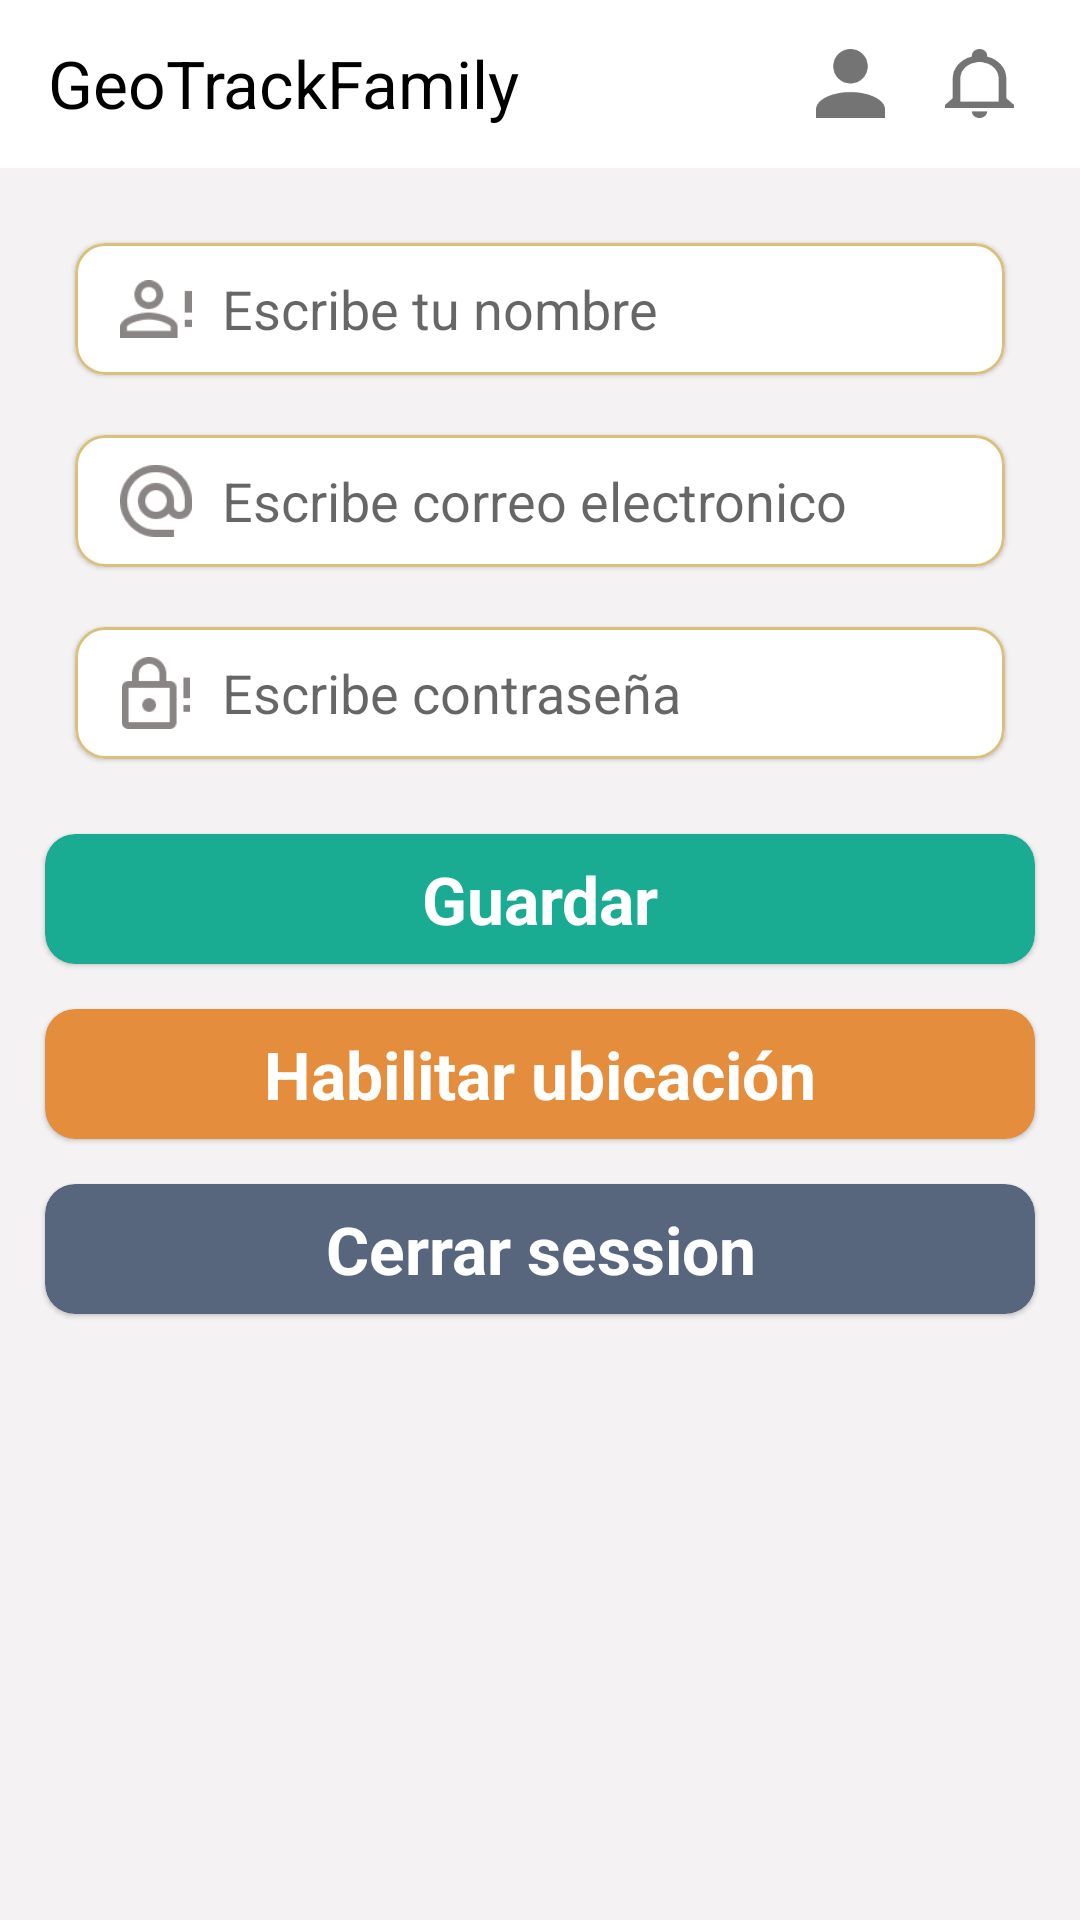

Screen size 1080*1920. Icon name, then its center in pixels as (x,y):
profile: (850,83)
